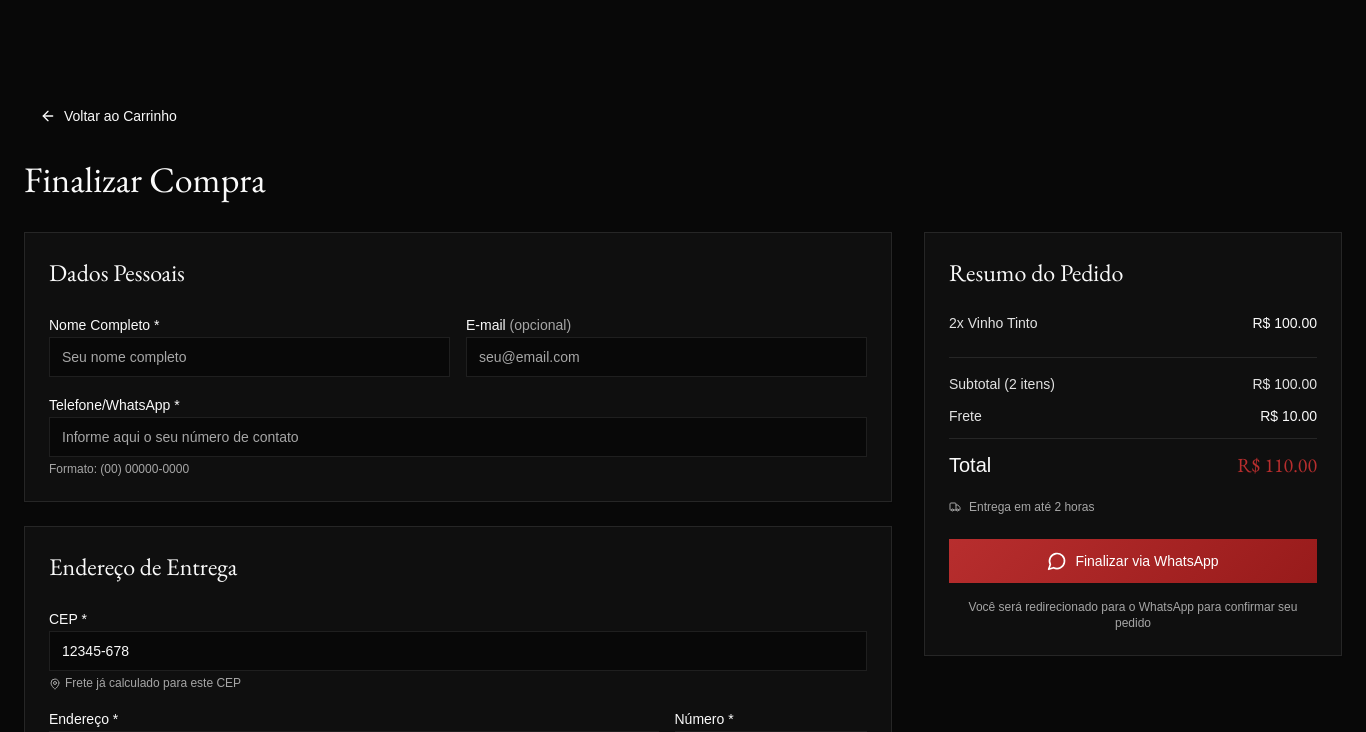
it: Checkout - Real-time Validation › Email Field Validation › should show green checkmark for valid email
Note: Type valid email
Type "test@example.com" into the field labelled "E-mail (opcional)" at (666, 357), box [466,337,867,377]
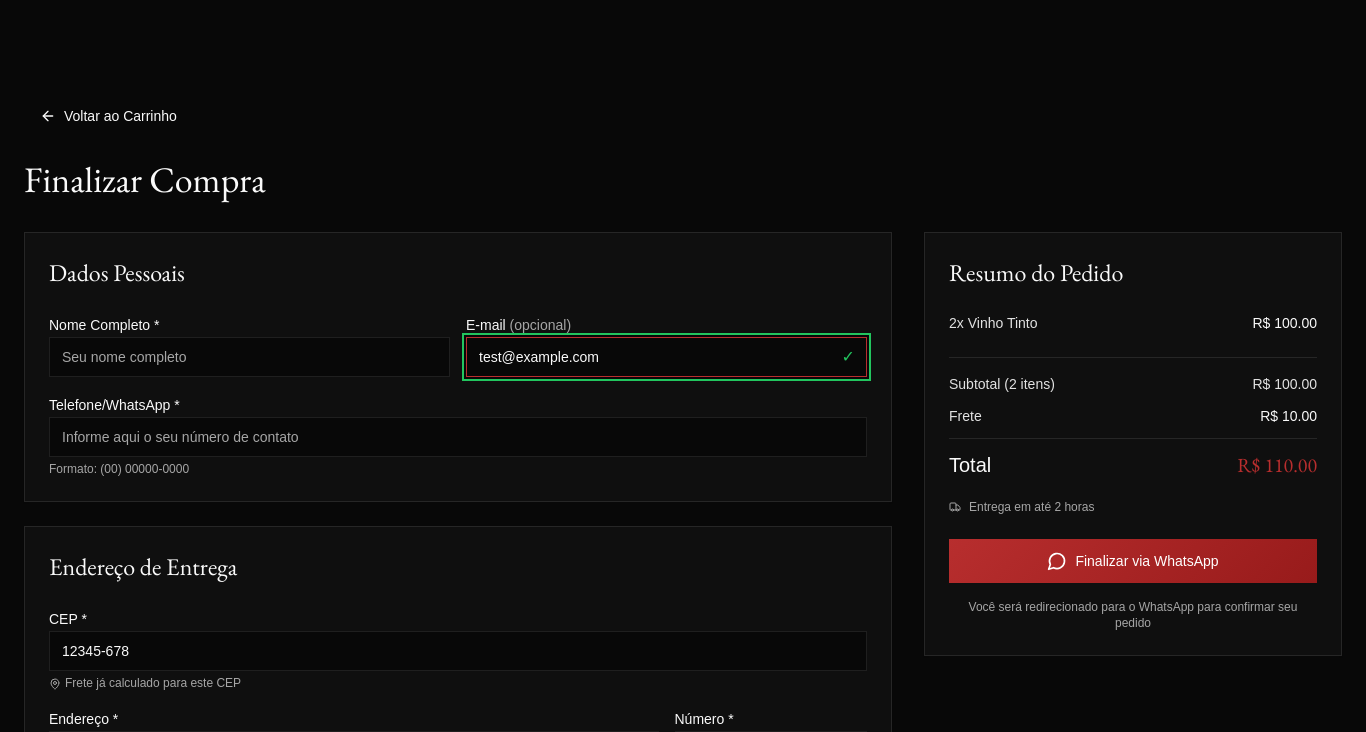
Expected: the text "✓" is shown, [842,345,855,369]
